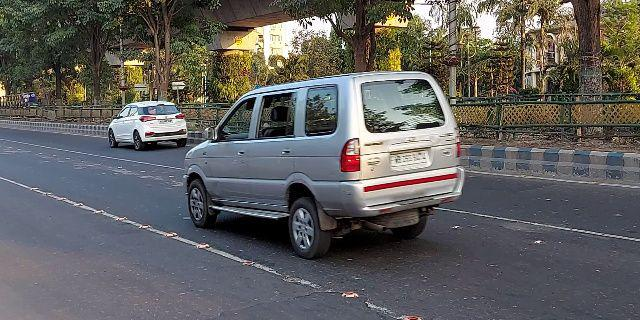Car: (181, 68, 468, 260), (106, 101, 189, 150)
